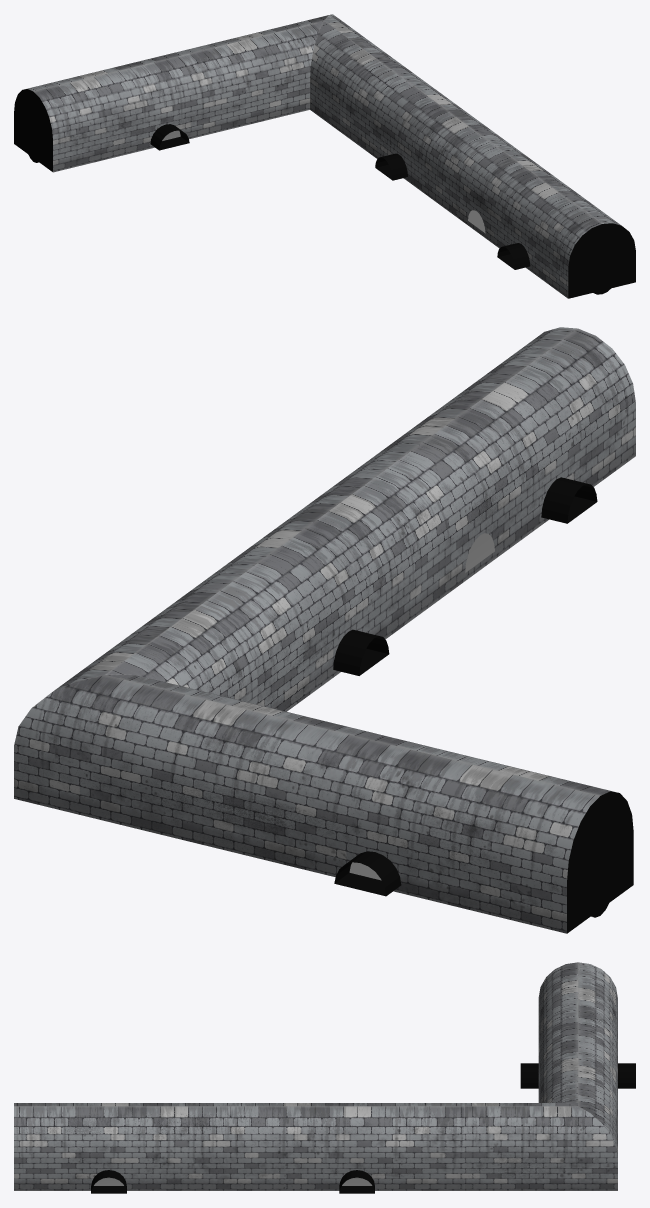
File: obj_sewer.fbx
The picture shows the model from 3 angles, top to bottom: view 1: azimuth 30°, elevation 25°; view 2: azimuth 150°, elevation 25°; view 3: azimuth 270°, elevation 25°; orthographic projection. The views are drawn at different scales.
Parts seen in each view (by area): view 1: obj_sewer; view 2: obj_sewer; view 3: obj_sewer.
Part boxes in pixels (left/top/right/bottom): obj_sewer: left=14, top=14, right=635, bottom=298; obj_sewer: left=14, top=327, right=635, bottom=933; obj_sewer: left=14, top=962, right=635, bottom=1193.
Bounding box in the file's own units: 57.31 × 11.35 × 89.41.
1 material, 1 textured.
